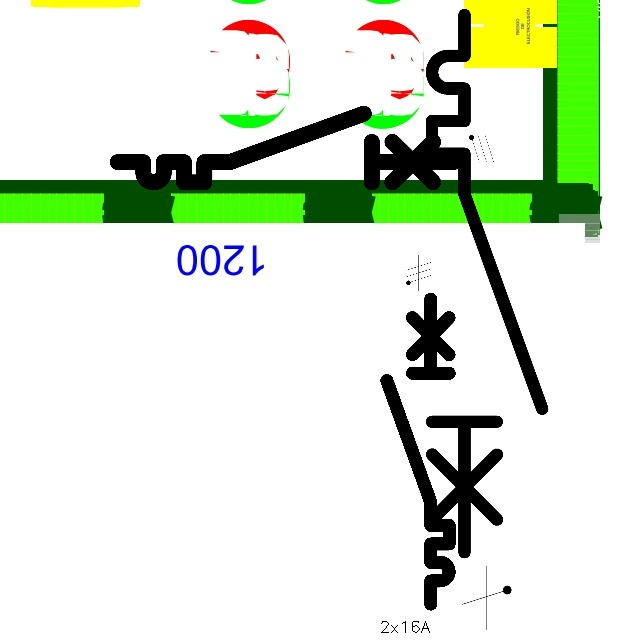interruptor_termomagnetico: (418, 1, 556, 566), (109, 105, 462, 191), (379, 291, 457, 612)
